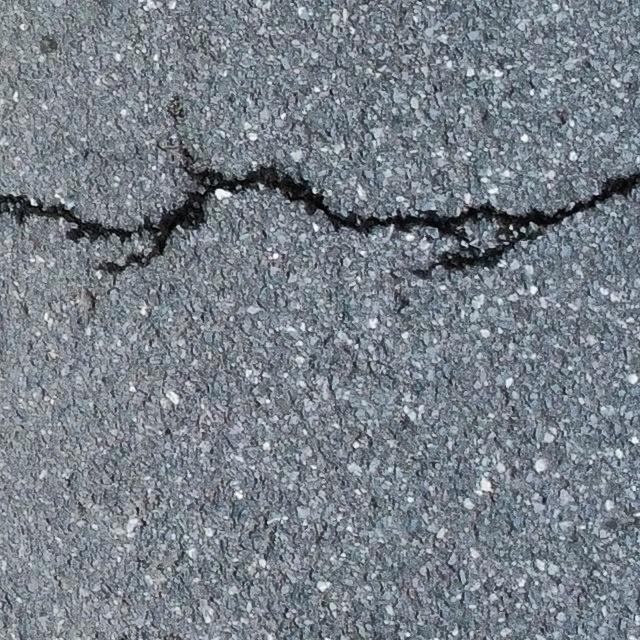TransverseCrack: (2, 147, 640, 281)
